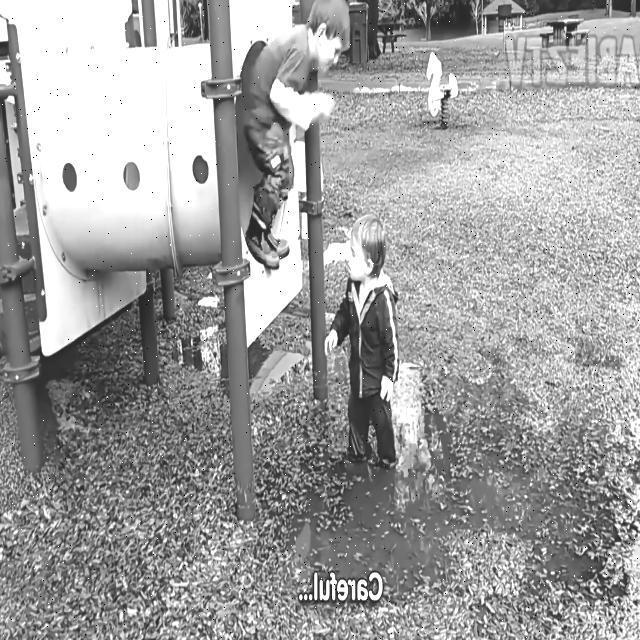child: (243, 0, 352, 271), (324, 212, 400, 466)
